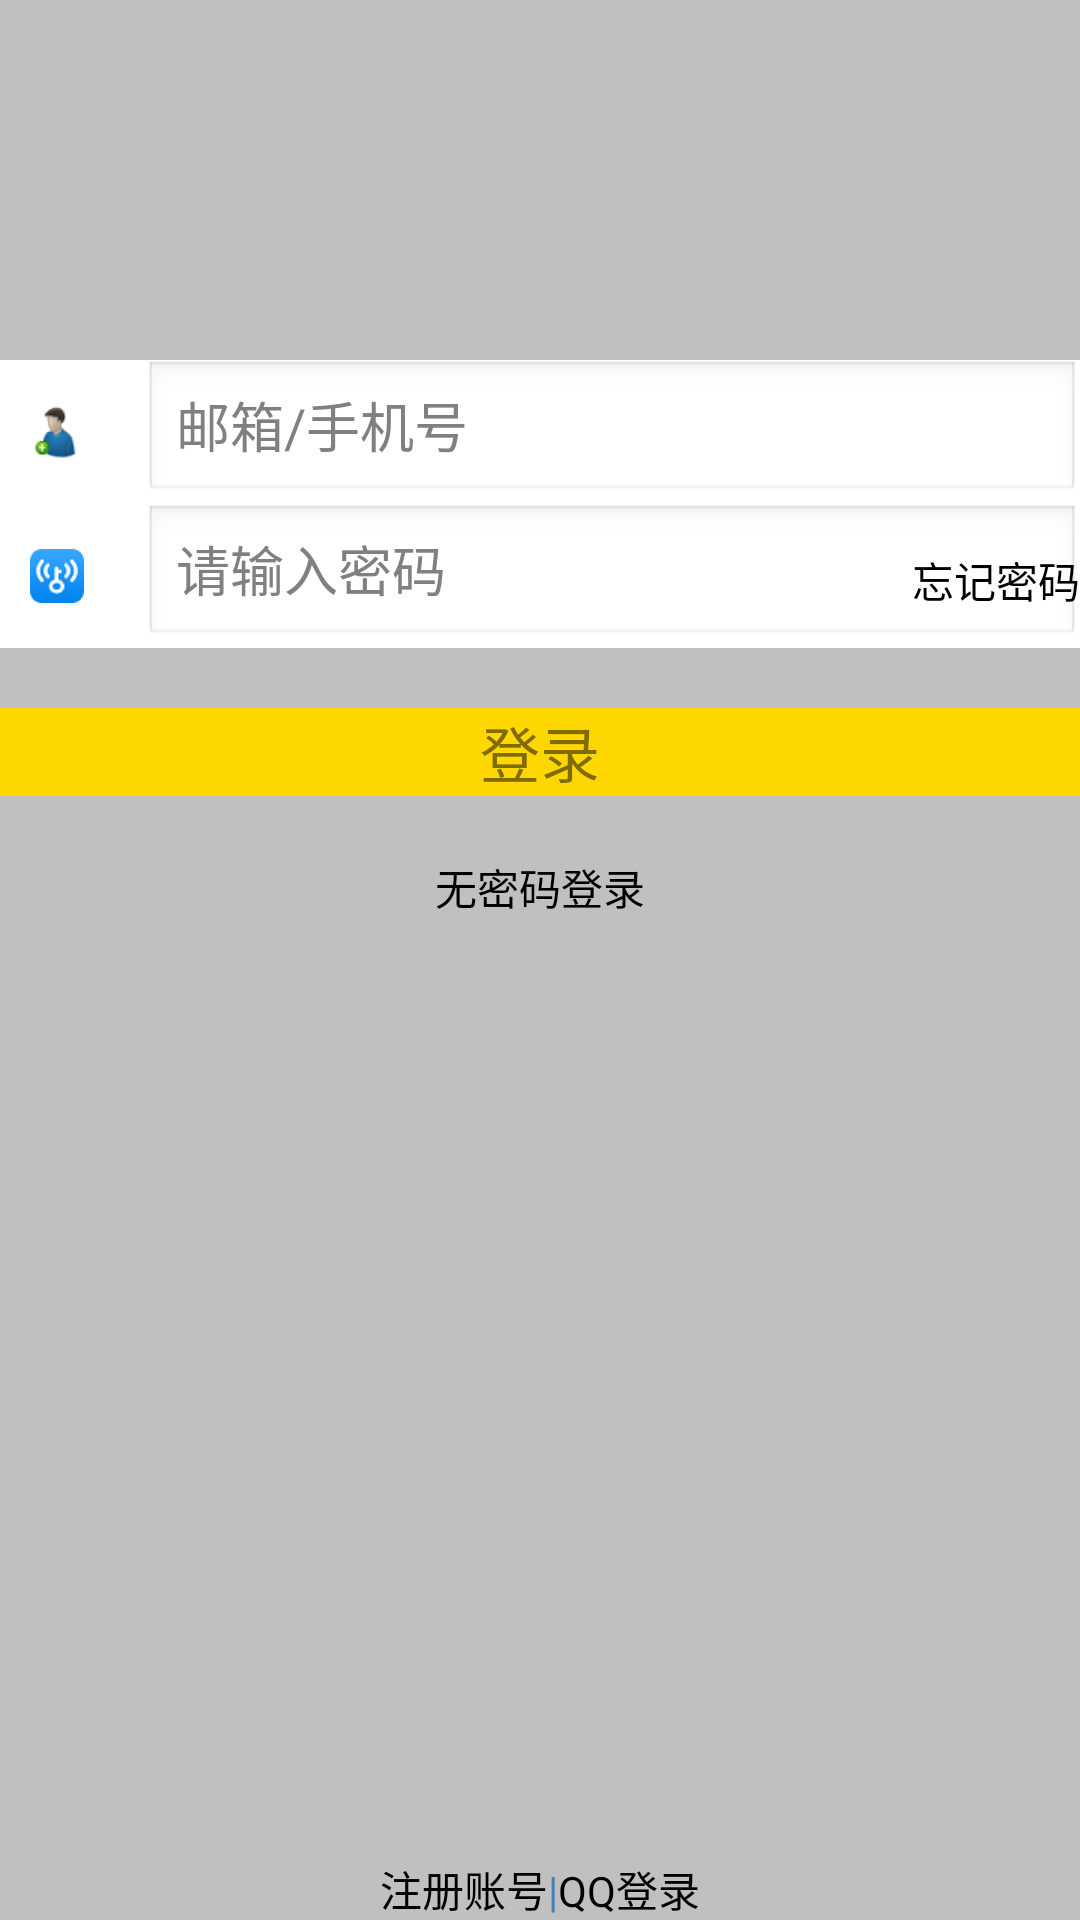

Icons on this 1080px x 1920px Android screen, each with its box as (x1, y1, x2, y2):
user add: (35, 407, 76, 458)
